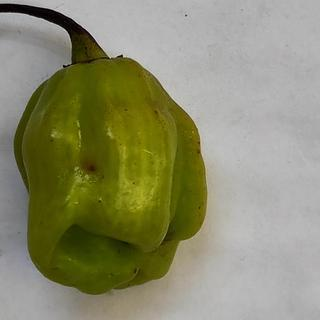Fly-bites: (82, 160, 101, 179)
